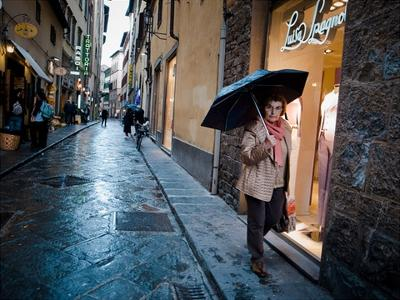person: (235, 90, 293, 277)
